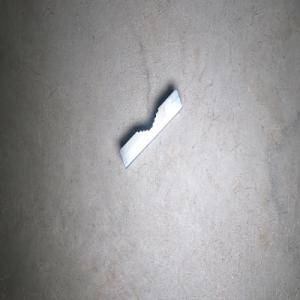ClampPart: (119, 87, 183, 169)
